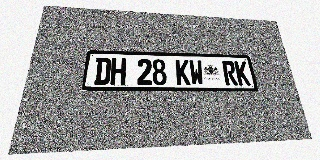2: (137, 59, 152, 85)
8: (152, 59, 167, 85)
D: (94, 58, 111, 85)
H: (110, 58, 126, 85)
K: (234, 61, 251, 85), (175, 60, 191, 85)
R: (222, 61, 238, 85)
W: (189, 60, 204, 85)
